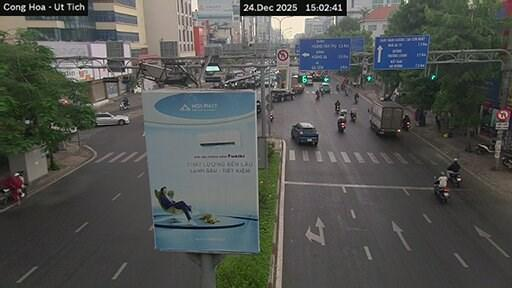motorbike: (434, 177, 449, 203), (476, 139, 495, 154), (0, 188, 13, 205), (447, 172, 461, 187), (502, 154, 511, 167), (337, 118, 345, 132), (119, 101, 128, 110), (402, 121, 410, 130), (350, 112, 356, 121), (354, 96, 359, 104), (335, 105, 340, 113), (269, 113, 273, 121)
